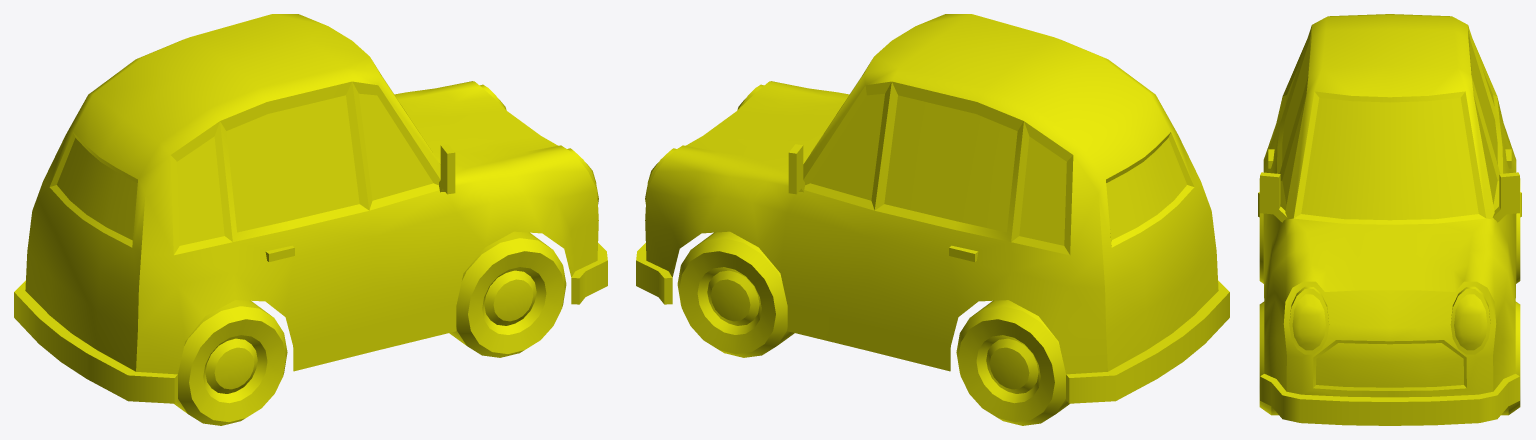
The model's file is parking_car00.glb.
The picture shows the model from 3 angles, left to right: view 1: azimuth 30°, elevation 25°; view 2: azimuth 150°, elevation 25°; view 3: azimuth 270°, elevation 25°; orthographic projection. The views are drawn at different scales.
Visible parts, largest first — view 1: parking_car00; view 2: parking_car00; view 3: parking_car00.
Boxes of the visible parts, <box> form: parking_car00: <box>14,14,607,425</box>; parking_car00: <box>636,14,1229,425</box>; parking_car00: <box>1258,14,1521,425</box>.
Size of the model in its own units: 1.8 by 1.04 by 0.8824.
Materials: 1 (1 with a texture image).
